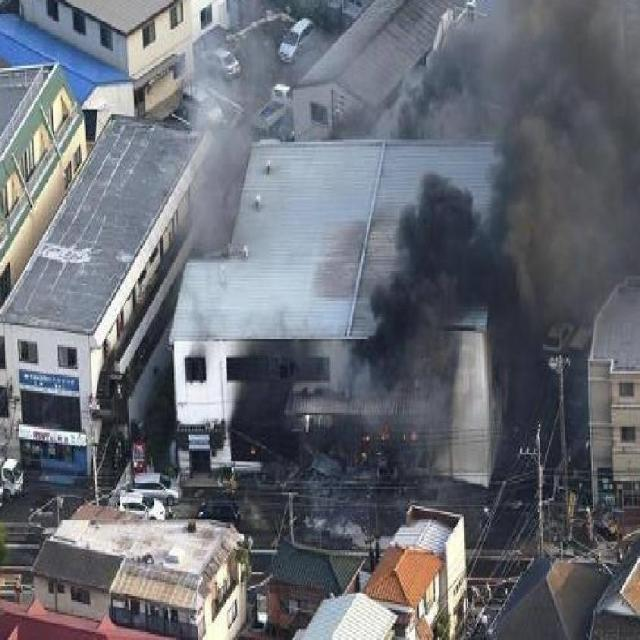Smoke: (333, 1, 640, 407)
